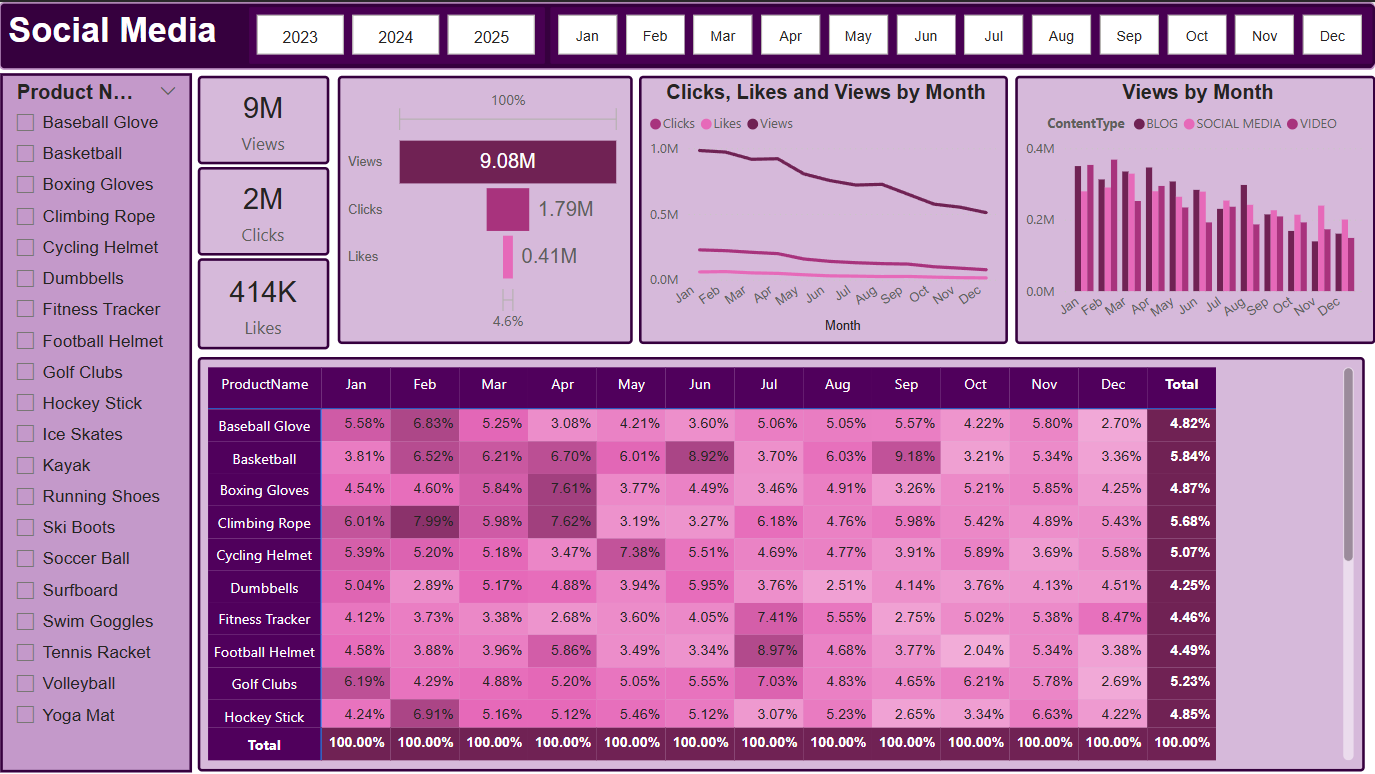

This screenshot's page, from the dashboard's own definition file:
{"tool":"powerbi","page":{"name":"Social Media Details","canvas":[1280,720],"ordinal":2},"visuals":[{"type":"textbox","box":[0,0,1280,62.9],"z":0},{"type":"slicer","fields":{"Values":["dim_products.ProductName"]},"box":[1.4,65.9,178.4,650.4],"z":1000},{"type":"card","fields":{"Values":["_calculations.Likes"]},"box":[185.2,238.8,122.1,85.1],"z":2000},{"type":"card","fields":{"Values":["_calculations.Clicks"]},"box":[185.2,153.7,122.1,82.3],"z":3000},{"type":"card","fields":{"Values":["_calculations.Views"]},"box":[185.2,68.6,122.1,82.3],"z":4000},{"type":"advancedSlicerVisual","fields":{"Values":["Calendar.Year"]},"box":[230.5,2.7,279.9,57.6],"z":5000},{"type":"advancedSlicerVisual","fields":{"Values":["Calendar.MonthNameShort"]},"box":[510.5,2.7,769.8,57.6],"z":6000},{"type":"lineChart","fields":{"Category":["Calendar.MonthNameShort"],"Y":["_calculations.Clicks","_calculations.Likes","_calculations.Views"]},"box":[595.5,68.6,343.1,249.7],"z":7000},{"type":"clusteredColumnChart","title":"Views by Month","fields":{"Y":["_calculations.Views"],"Category":["Calendar.MonthNameShort"],"Series":["fact_engagement_data.ContentType"]},"box":[945.5,68.6,334.8,249.7],"z":8000},{"type":"pivotTable","fields":{"Rows":["dim_products.ProductName"],"Columns":["Calendar.MonthNameShort"],"Values":["_calculations.Views"]},"box":[185.2,330.7,1085.4,385.6],"z":9000},{"type":"funnel","fields":{"Y":["_calculations.Views","_calculations.Clicks","_calculations.Likes"]},"box":[315.6,68.6,274.4,249.7],"z":10000}]}

Visuals, with their boxes in screenshot pixels (x1, y1, x2, y2), scaled from the page's 1280x720 canvas onto the 1375x774 screenshot:
textbox: pyautogui.locateOnScreen(0, 0, 1374, 68)
slicer - dim_products.ProductName: pyautogui.locateOnScreen(2, 71, 193, 770)
card - _calculations.Likes: pyautogui.locateOnScreen(199, 257, 330, 348)
card - _calculations.Clicks: pyautogui.locateOnScreen(199, 165, 330, 254)
card - _calculations.Views: pyautogui.locateOnScreen(199, 74, 330, 162)
advancedSlicerVisual - Calendar.Year: pyautogui.locateOnScreen(248, 3, 548, 65)
advancedSlicerVisual - Calendar.MonthNameShort: pyautogui.locateOnScreen(548, 3, 1374, 65)
lineChart - Calendar.MonthNameShort x _calculations.Clicks: pyautogui.locateOnScreen(640, 74, 1008, 342)
"Views by Month" clusteredColumnChart: pyautogui.locateOnScreen(1016, 74, 1374, 342)
pivotTable - dim_products.ProductName x Calendar.MonthNameShort: pyautogui.locateOnScreen(199, 356, 1365, 770)
funnel - _calculations.Views x _calculations.Clicks: pyautogui.locateOnScreen(339, 74, 634, 342)
